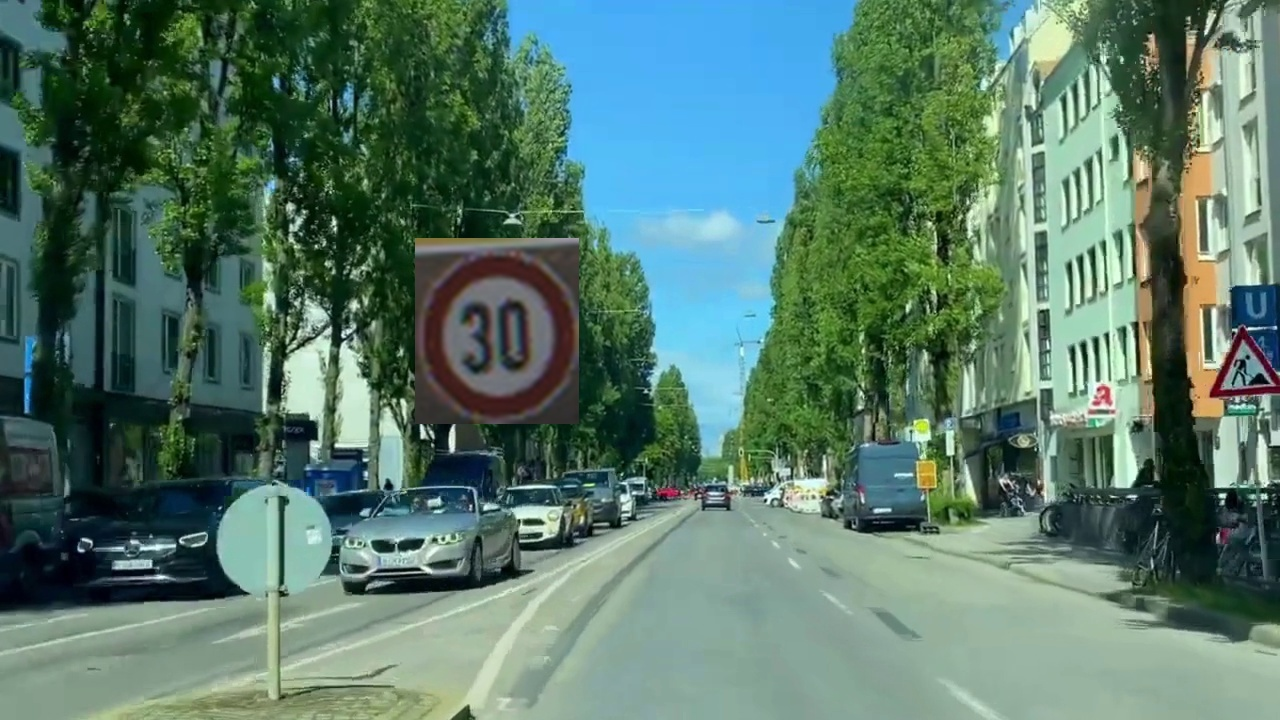Speed 30: (415, 238, 579, 424)
